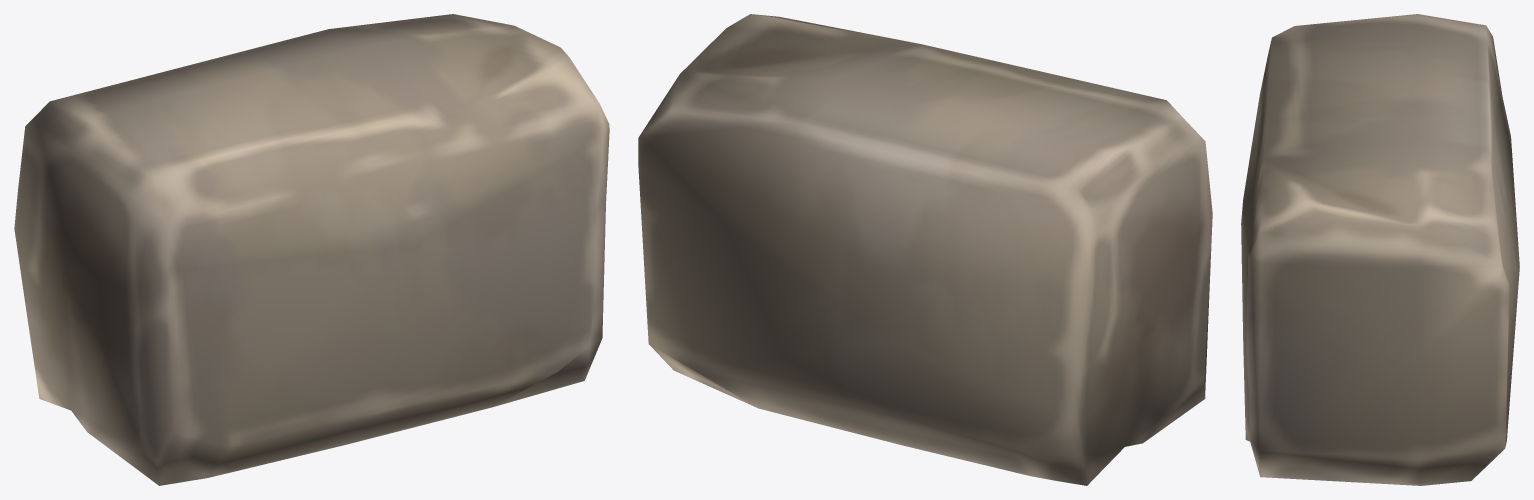
File: Prop_Brick3.gltf
3 renders of one model, left to right at view 1: azimuth 30°, elevation 25°; view 2: azimuth 150°, elevation 25°; view 3: azimuth 270°, elevation 25°, orthographic. The views are drawn at different scales.
Visible parts, largest first — view 1: Prop_Brick3; view 2: Prop_Brick3; view 3: Prop_Brick3.
Part boxes in pixels (x1=…): Prop_Brick3: x1=14, y1=14, x2=609, y2=485; Prop_Brick3: x1=638, y1=14, x2=1212, y2=485; Prop_Brick3: x1=1241, y1=14, x2=1519, y2=485.
Bounding box in the file's own units: 0.3814 × 0.2497 × 0.2156.
1 material, 1 textured.
